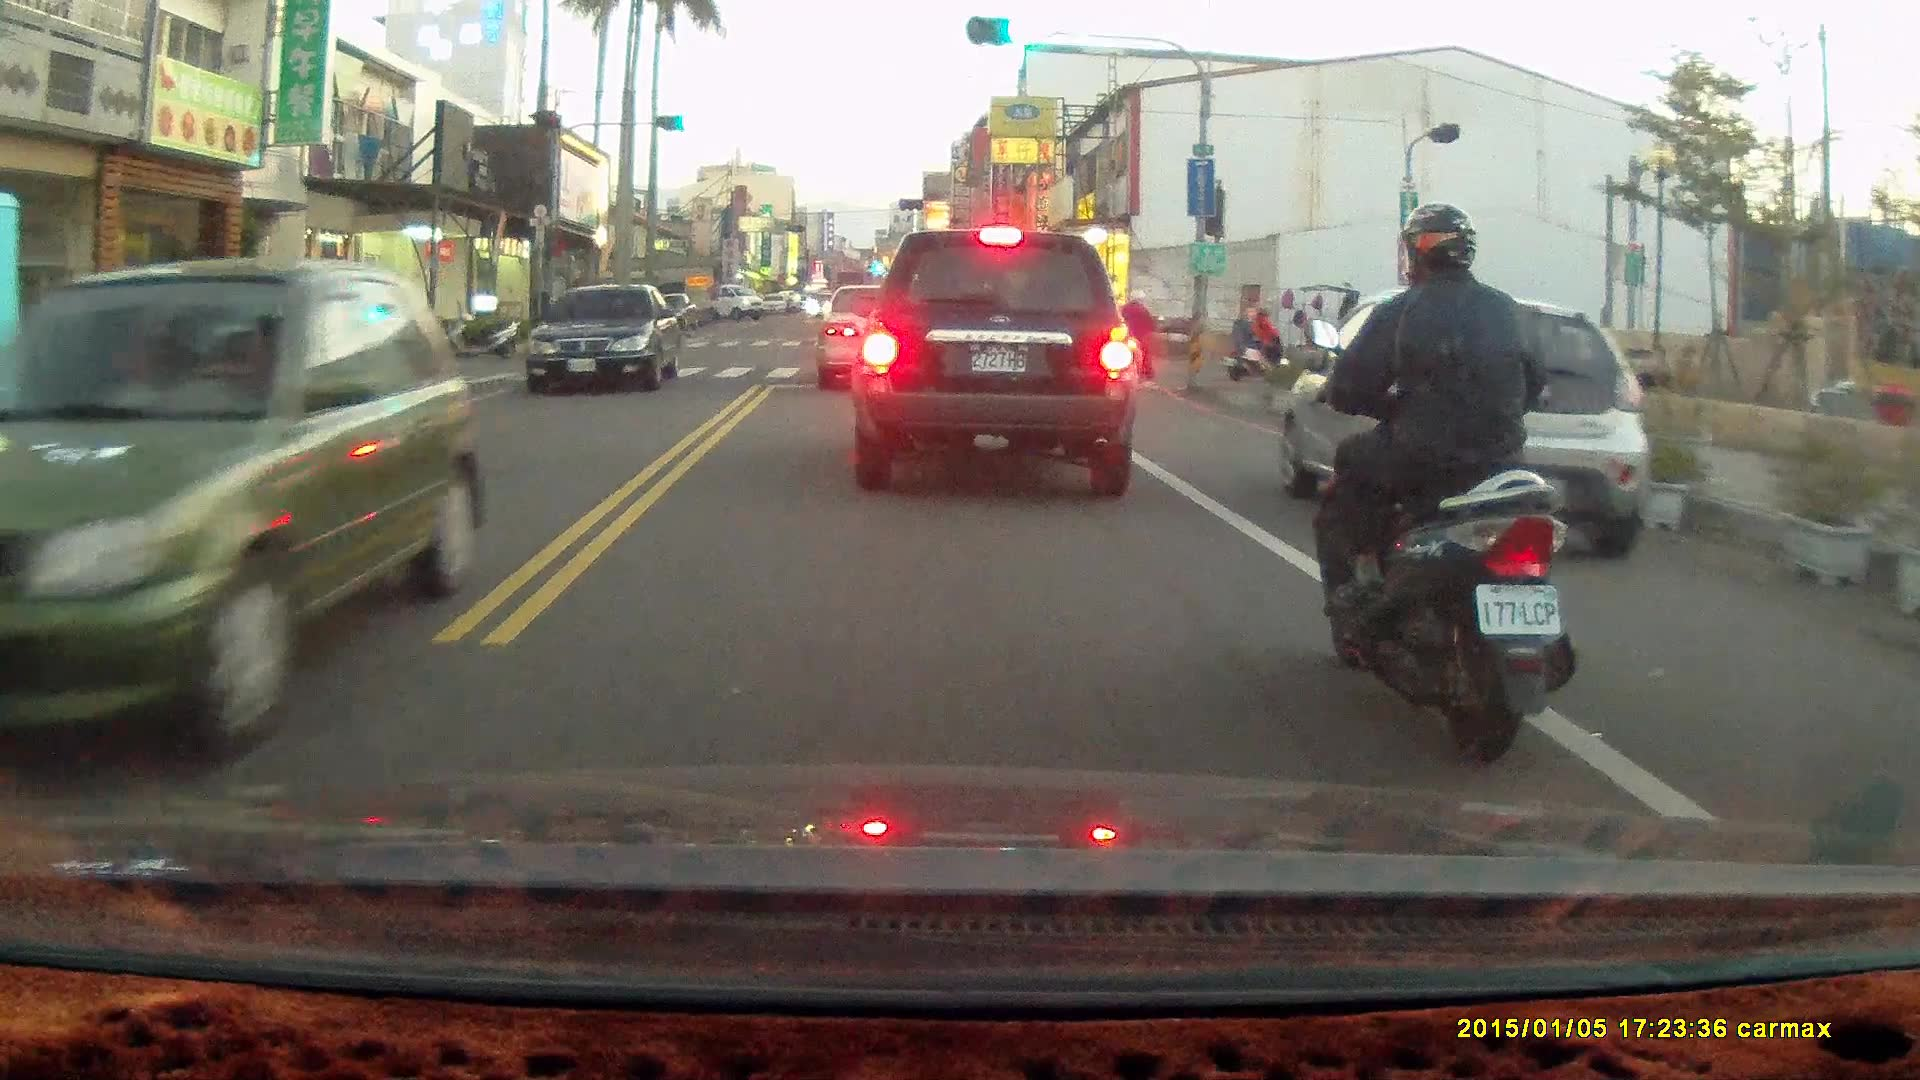rider: (1300, 199, 1576, 764), (1223, 297, 1288, 378), (1109, 285, 1158, 388)
vehicle: (1, 250, 499, 754), (1274, 290, 1655, 559), (855, 223, 1136, 501), (528, 284, 684, 397), (816, 283, 940, 397)
